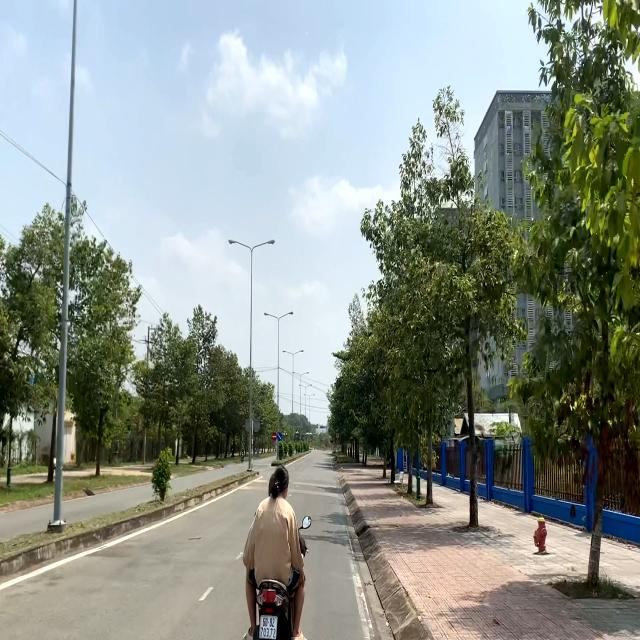P.102: (272, 432, 277, 441)
R.302a: (277, 432, 282, 442)
